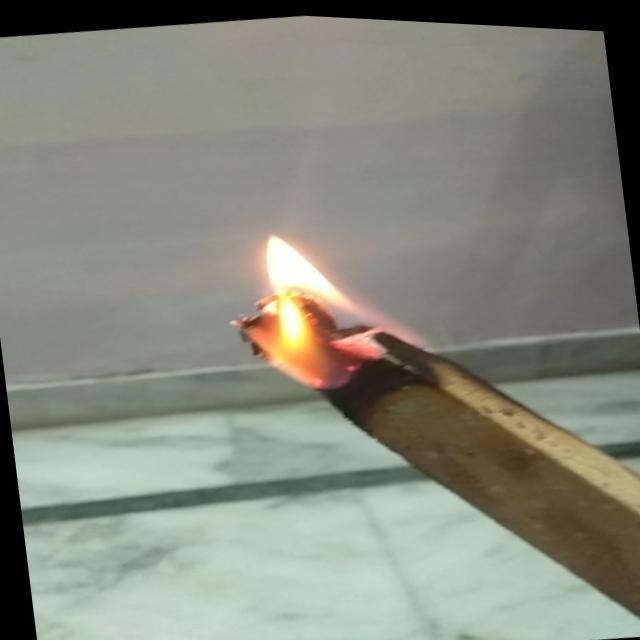fire: (191, 201, 430, 412)
